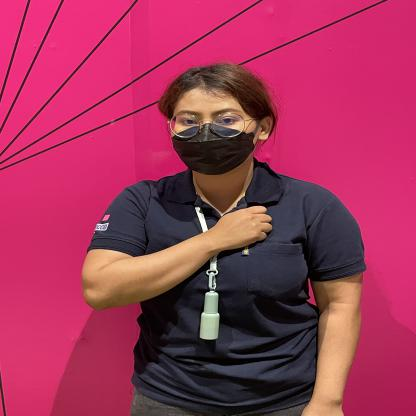Sadness: (182, 185, 279, 257)
